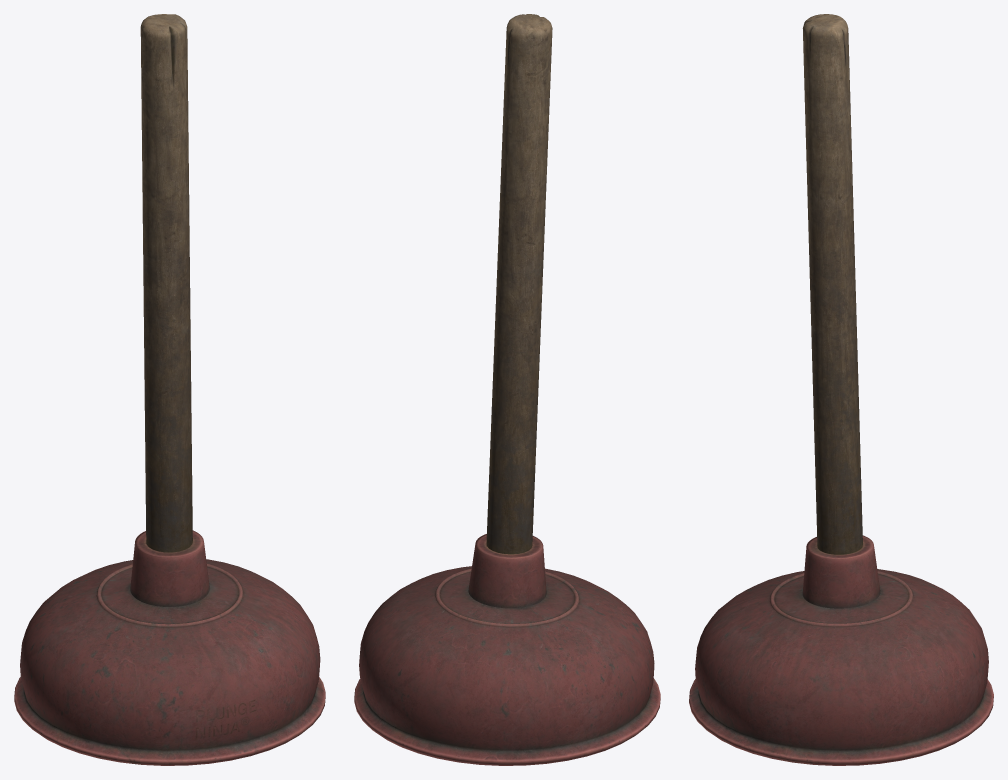
The model's file is asset.gltf.
3 renders of one model, left to right at view 1: azimuth 30°, elevation 25°; view 2: azimuth 150°, elevation 25°; view 3: azimuth 270°, elevation 25°, orthographic. The views are drawn at different scales.
Parts seen in each view (by area): view 1: plunger; view 2: plunger; view 3: plunger.
Part boxes in pixels (box(x1,y1,x2,y2)): plunger: box(14, 14, 325, 765); plunger: box(354, 14, 660, 765); plunger: box(689, 14, 993, 765).
Size of the model in its own units: 0.1721 by 0.4211 by 0.1721.
Materials: 1 (1 with a texture image).
